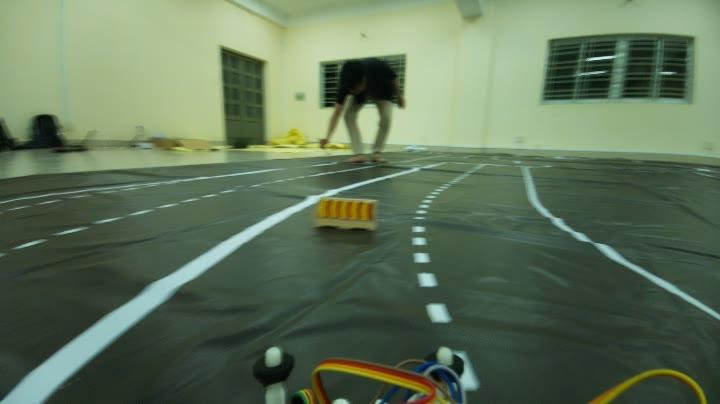roadblock: (308, 189, 384, 239)
